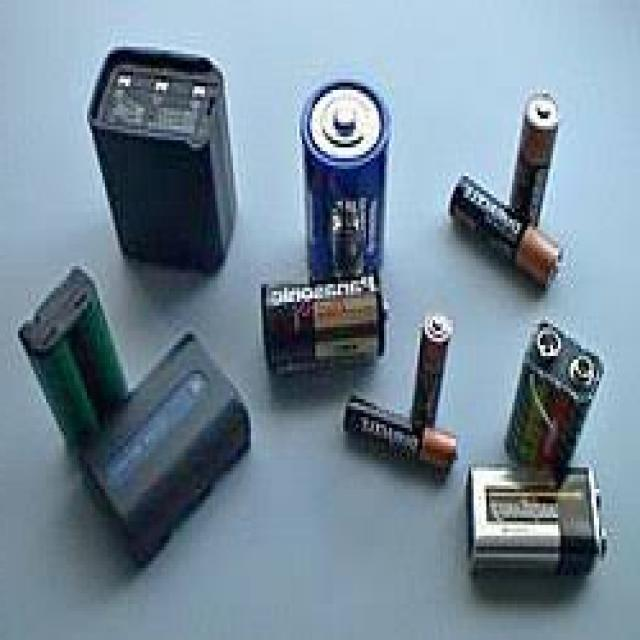battery: (300, 77, 392, 285), (465, 464, 610, 571), (502, 321, 606, 467), (259, 272, 392, 376), (448, 176, 564, 291), (341, 394, 459, 472), (509, 92, 562, 228), (412, 311, 454, 426)
